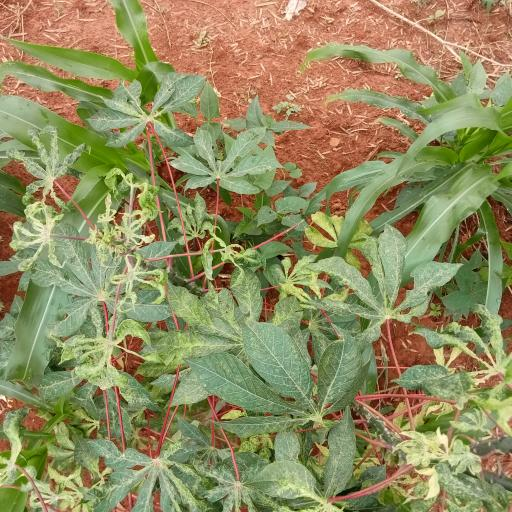Cassava_Mosaic: (189, 318, 373, 430), (103, 443, 334, 512), (48, 236, 180, 330), (84, 76, 208, 150), (182, 131, 278, 198), (7, 132, 89, 203), (4, 201, 71, 270), (310, 215, 386, 261)
